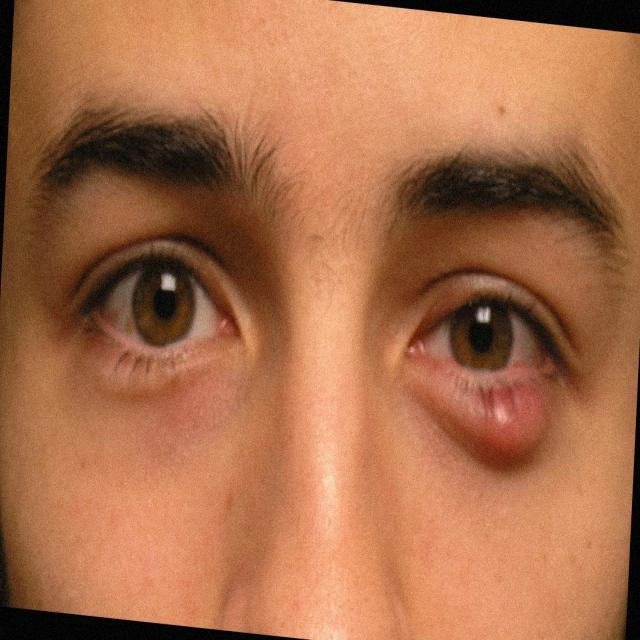Chalazion: (397, 238, 587, 484)
Healthy-Eye: (68, 223, 261, 396)
